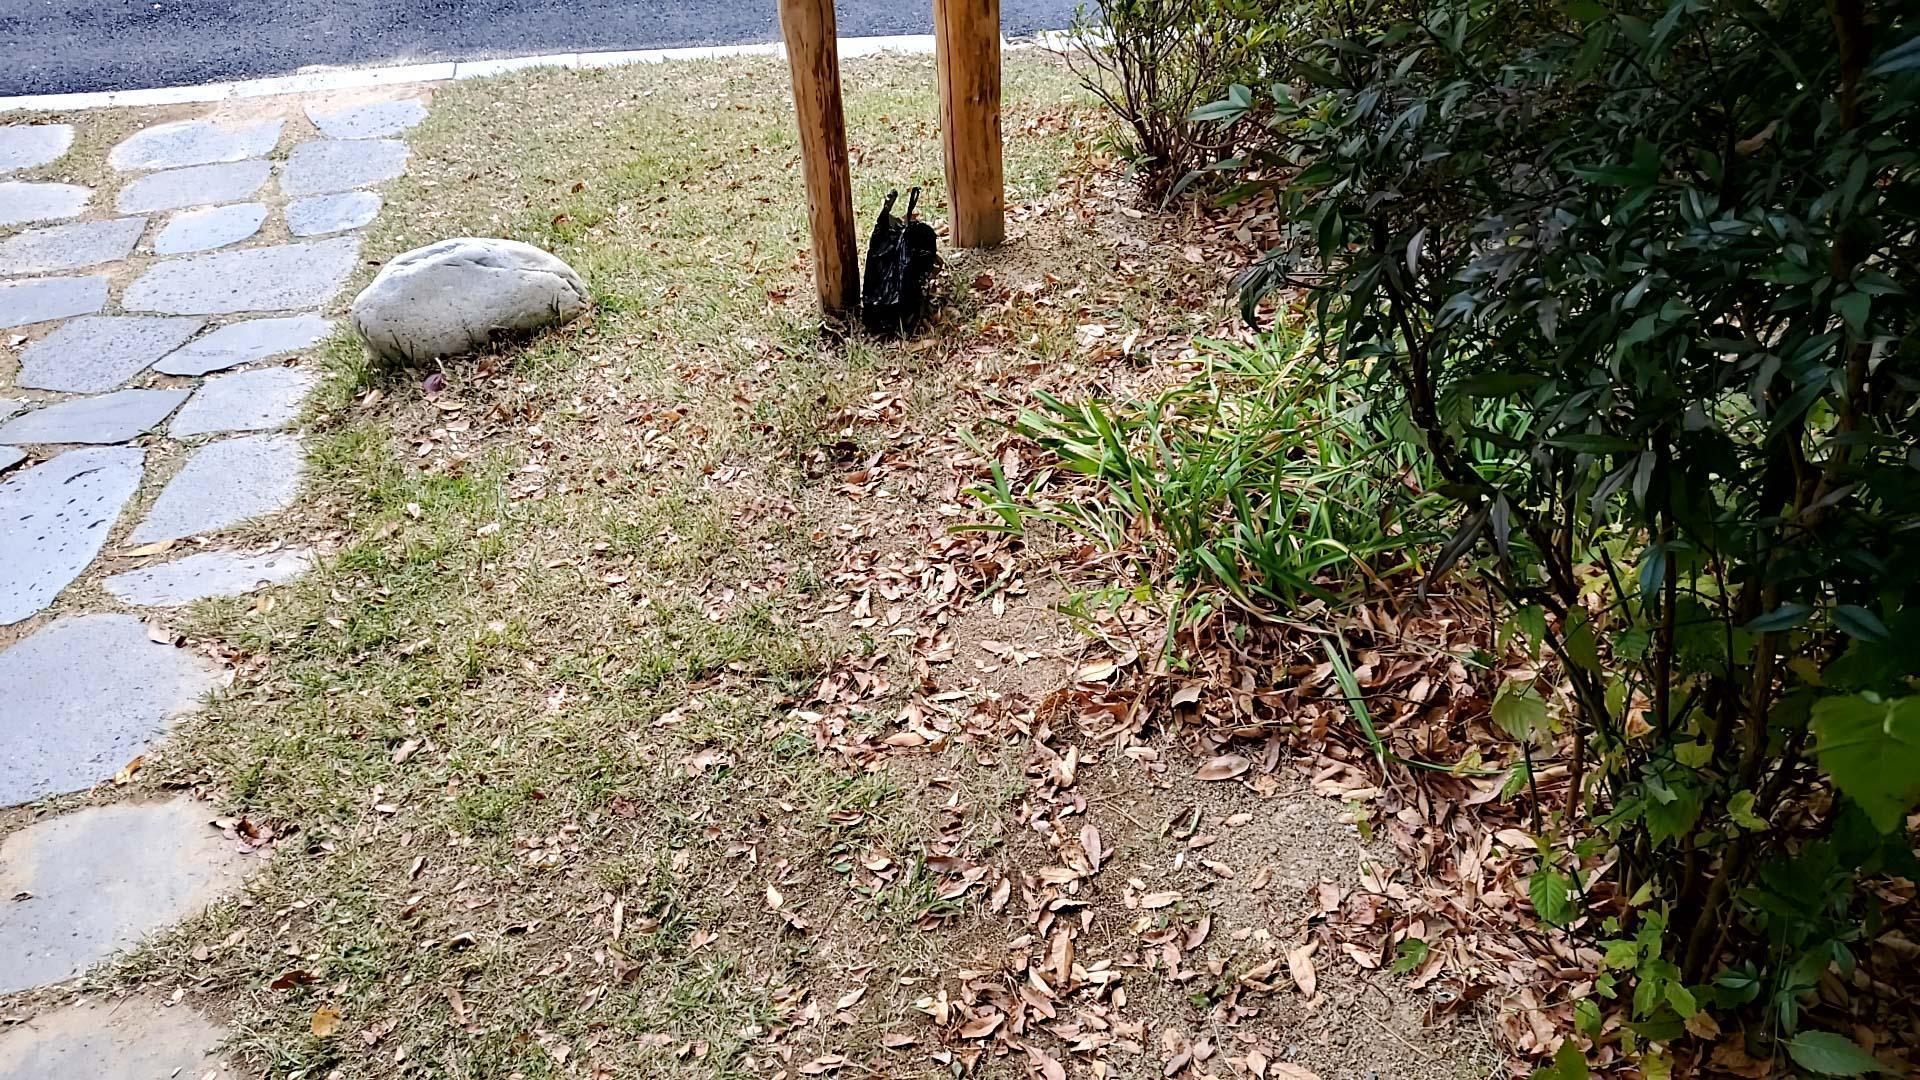black_bag: (852, 175, 949, 344)
